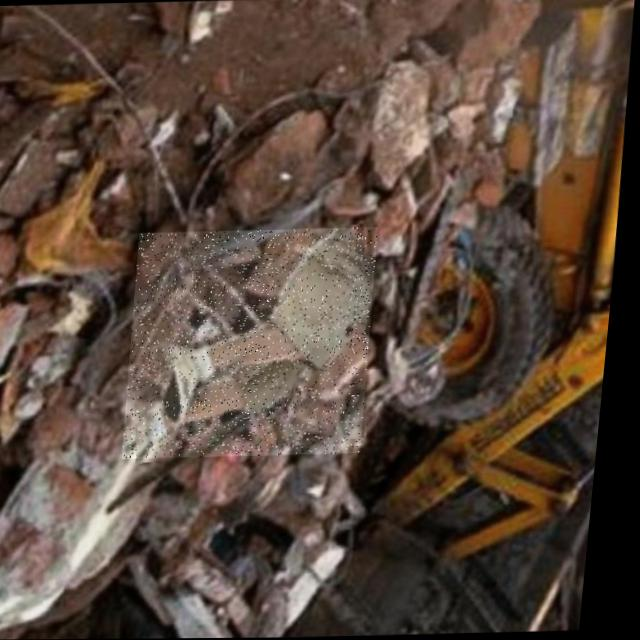Person in Rubble: (126, 227, 385, 459)
